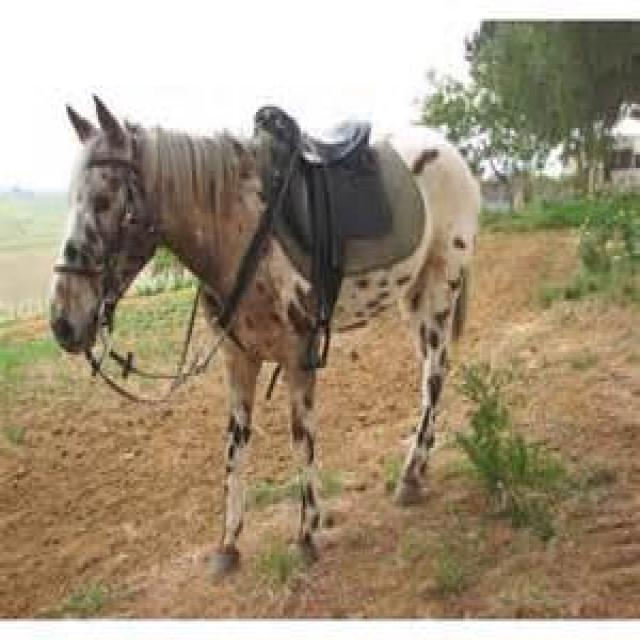horse: (51, 97, 479, 568)
